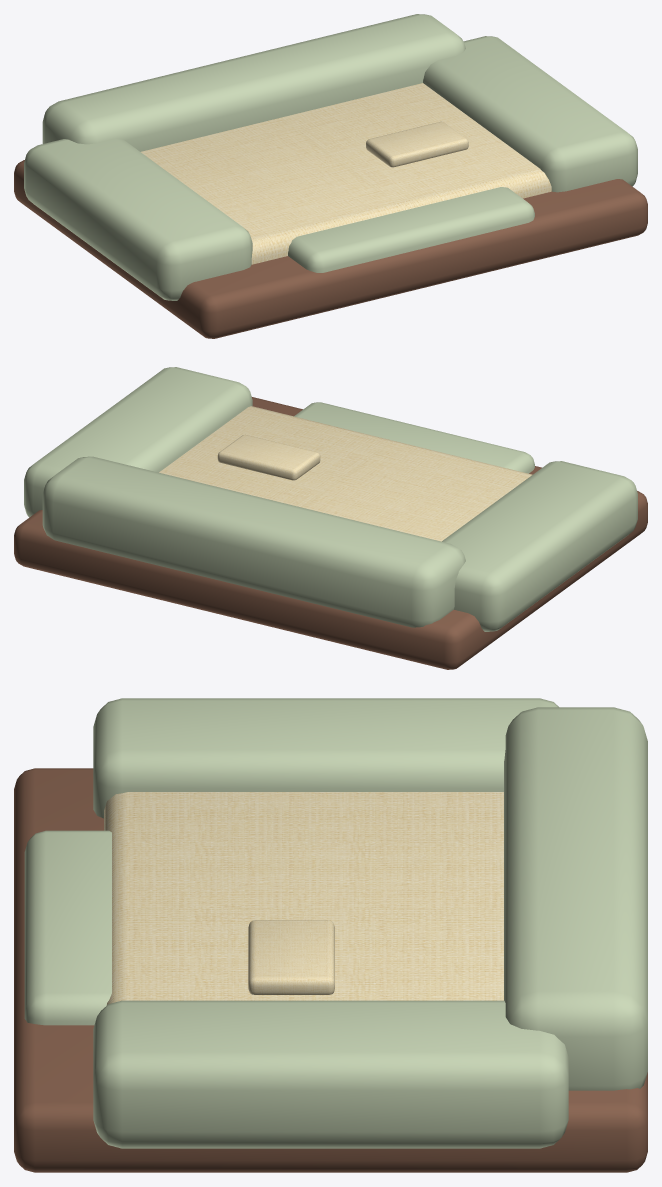
The model's file is pet-bed.glb.
The picture shows the model from 3 angles, top to bottom: view 1: azimuth 30°, elevation 25°; view 2: azimuth 150°, elevation 25°; view 3: azimuth 270°, elevation 25°; orthographic projection. The views are drawn at different scales.
Parts seen in each view (by area): view 1: pet-bed; view 2: pet-bed; view 3: pet-bed.
Boxes of the visible parts, box(x1,y1,x2,y2) form: pet-bed: box(14, 14, 647, 338); pet-bed: box(14, 367, 647, 669); pet-bed: box(14, 698, 647, 1172).
Size of the model in its own units: 0.6787 by 0.1296 by 0.484.
Materials: 4 (2 with a texture image).
